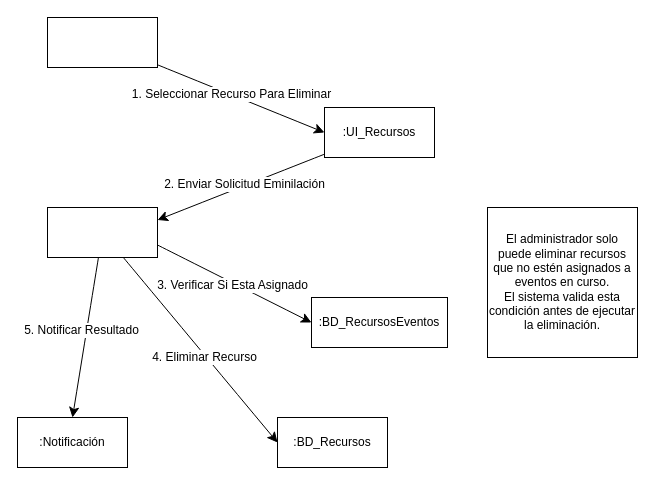
This 655x485 diagram has some shape labels left out. The centre of each missing label's shape, as x and y in pixels:
":Administrador" goes at [102,42].
":SistemaRecursos" goes at [102,232].
